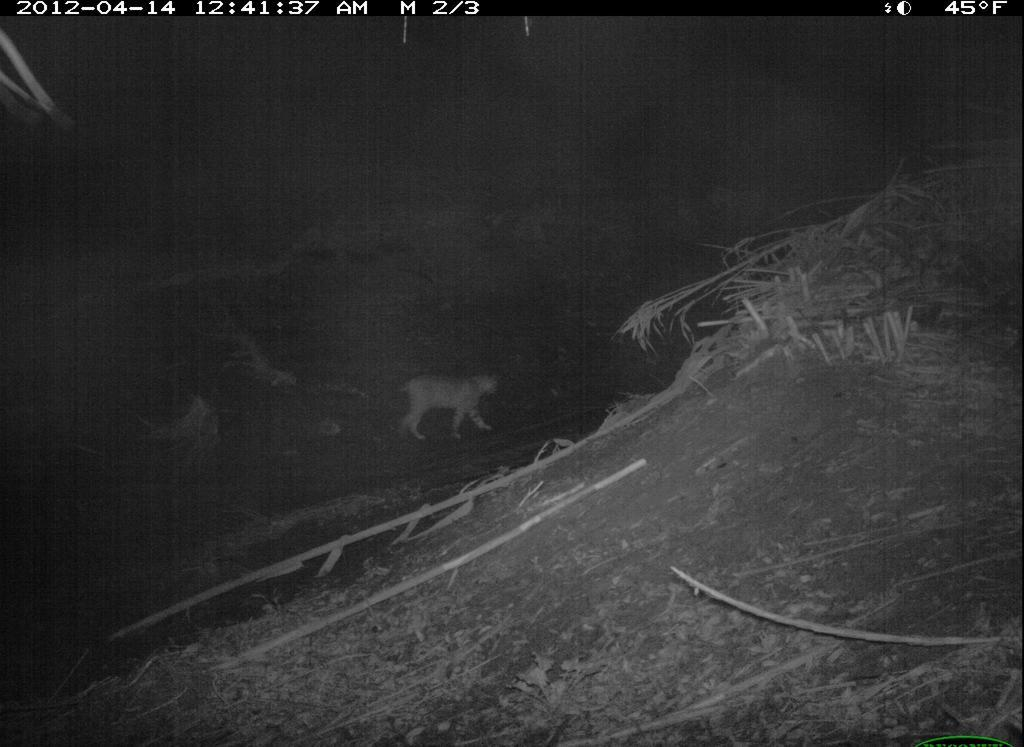bobcat: (390, 356, 507, 450)
